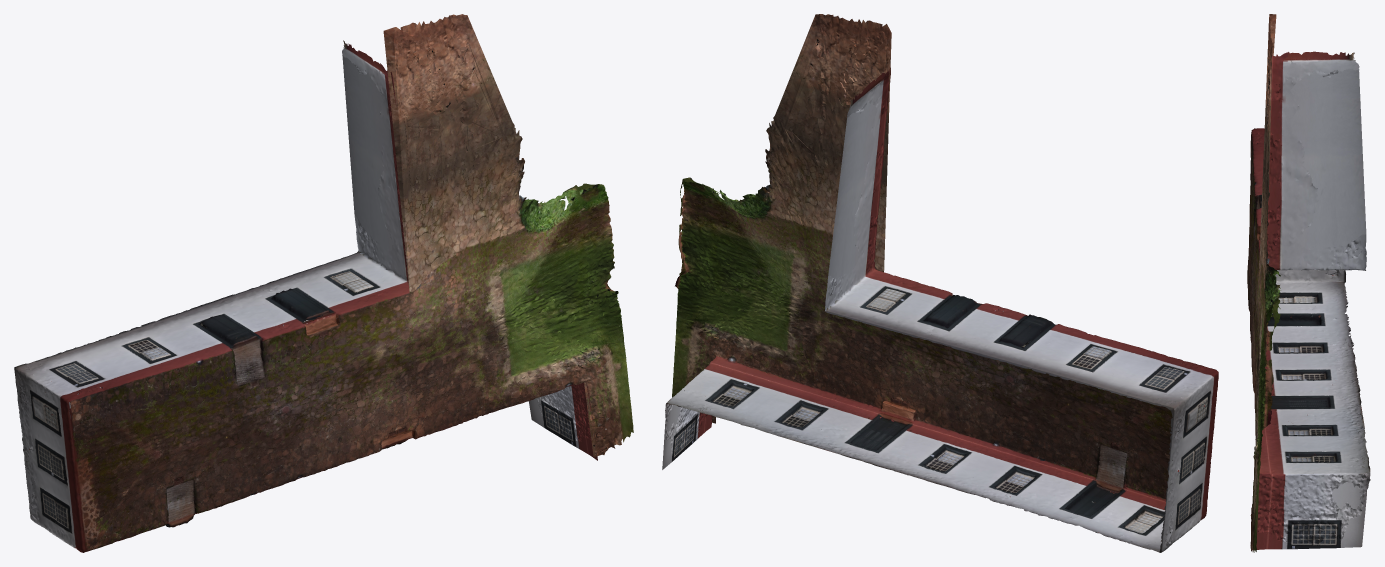
Rendered from G4TEXTURA.FBX.
3 views of the same model, side by side, from view 1: azimuth 30°, elevation 25°; view 2: azimuth 150°, elevation 25°; view 3: azimuth 270°, elevation 25° (orthographic). The views are drawn at different scales.
Parts seen in each view (by area): view 1: Object001, Model; view 2: Object001, Model; view 3: Model, Object001.
Part boxes in pixels (box(x1,y1,x2,y2)): Object001: box(77, 14, 633, 548); Model: box(14, 40, 597, 552); Object001: box(672, 14, 1172, 500); Model: box(662, 68, 1218, 552); Model: box(1248, 51, 1370, 550); Object001: box(1247, 14, 1280, 552).
Bounding box in the file's own units: 3564 × 2823 × 704.
Materials: 2 (2 with a texture image).
